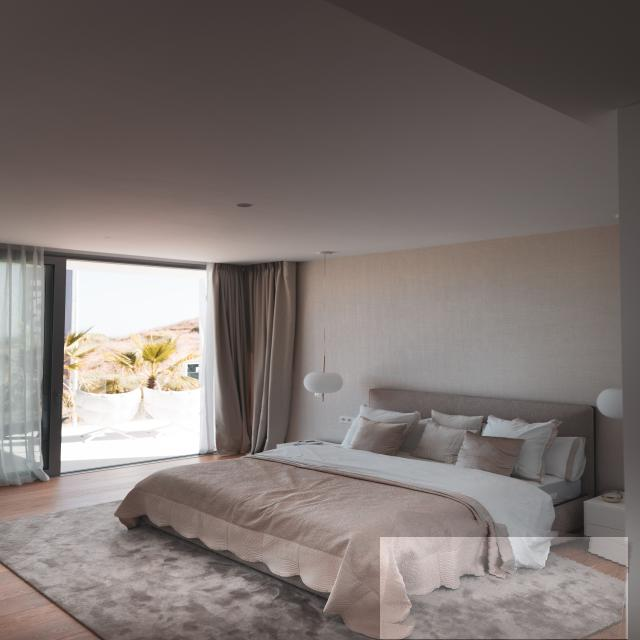floor: (0, 453, 383, 640), (381, 537, 628, 640)
